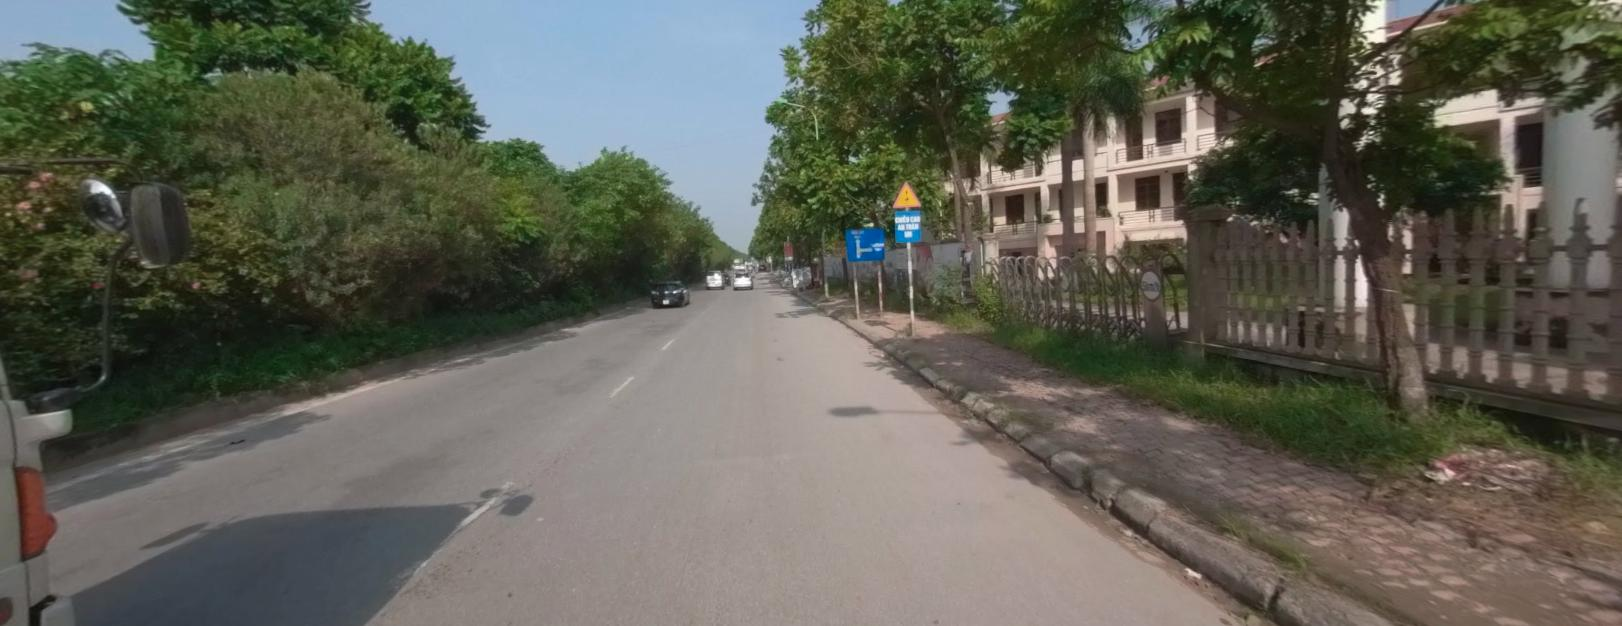Nguy hiem: (892, 180, 920, 205)
